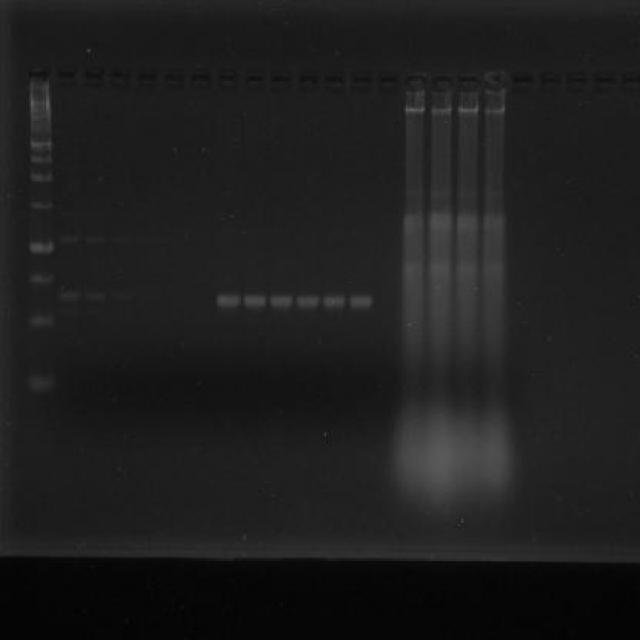B: (213, 288, 242, 314), (348, 288, 374, 316), (454, 208, 480, 230), (268, 292, 296, 312), (402, 213, 426, 236), (296, 290, 321, 312), (244, 290, 267, 313), (322, 290, 346, 312), (480, 212, 505, 232), (430, 210, 452, 232), (400, 258, 426, 274), (108, 232, 136, 246), (60, 288, 83, 304), (426, 258, 452, 272), (57, 231, 81, 246), (112, 288, 134, 304), (84, 289, 108, 303), (456, 260, 478, 274), (480, 260, 505, 272), (84, 234, 107, 246), (403, 104, 426, 116), (429, 105, 454, 116), (457, 105, 480, 116), (482, 106, 507, 114)
L: (15, 61, 640, 100)
M: (23, 99, 62, 399)
P: (27, 372, 56, 394), (26, 313, 56, 329), (28, 270, 56, 287), (28, 237, 56, 254), (27, 168, 55, 182), (27, 137, 55, 151), (29, 198, 54, 212), (30, 152, 54, 166)
Pc: (482, 68, 510, 96), (454, 70, 482, 98), (402, 70, 429, 98), (189, 68, 214, 96), (269, 68, 294, 96), (510, 68, 535, 96), (54, 64, 80, 90), (134, 66, 160, 92), (428, 70, 454, 96), (294, 68, 320, 94), (564, 70, 590, 96), (82, 64, 106, 92), (108, 65, 132, 93), (538, 69, 562, 97), (376, 70, 401, 96), (348, 70, 374, 95), (322, 70, 347, 96), (26, 64, 52, 88), (592, 70, 616, 96), (163, 66, 186, 92), (243, 68, 266, 94), (217, 68, 240, 94), (618, 72, 640, 92)
